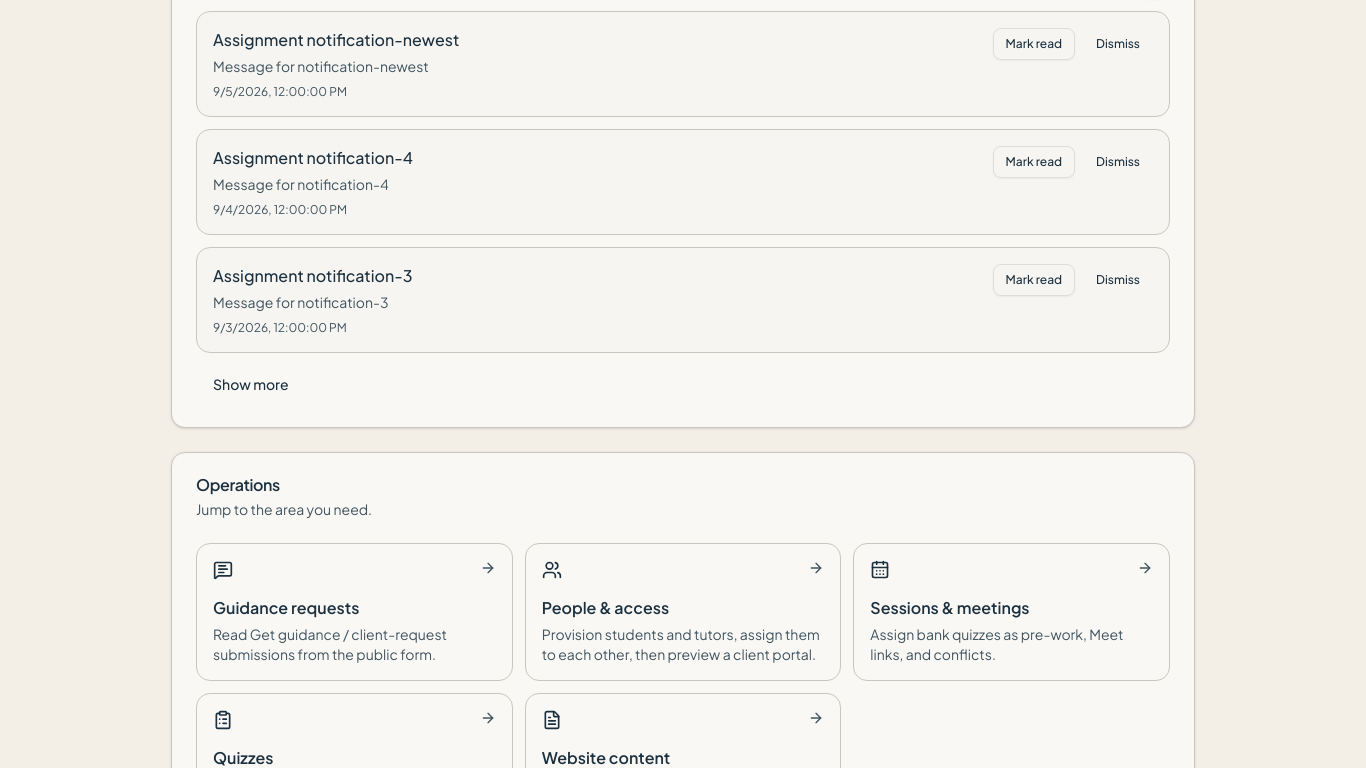
Test: administrator overview › expands older assignment notifications and can collapse them again
(page scrolled)
Click the button with test id "assignment-notifications-show-more": (251, 384) [196, 365, 306, 403]
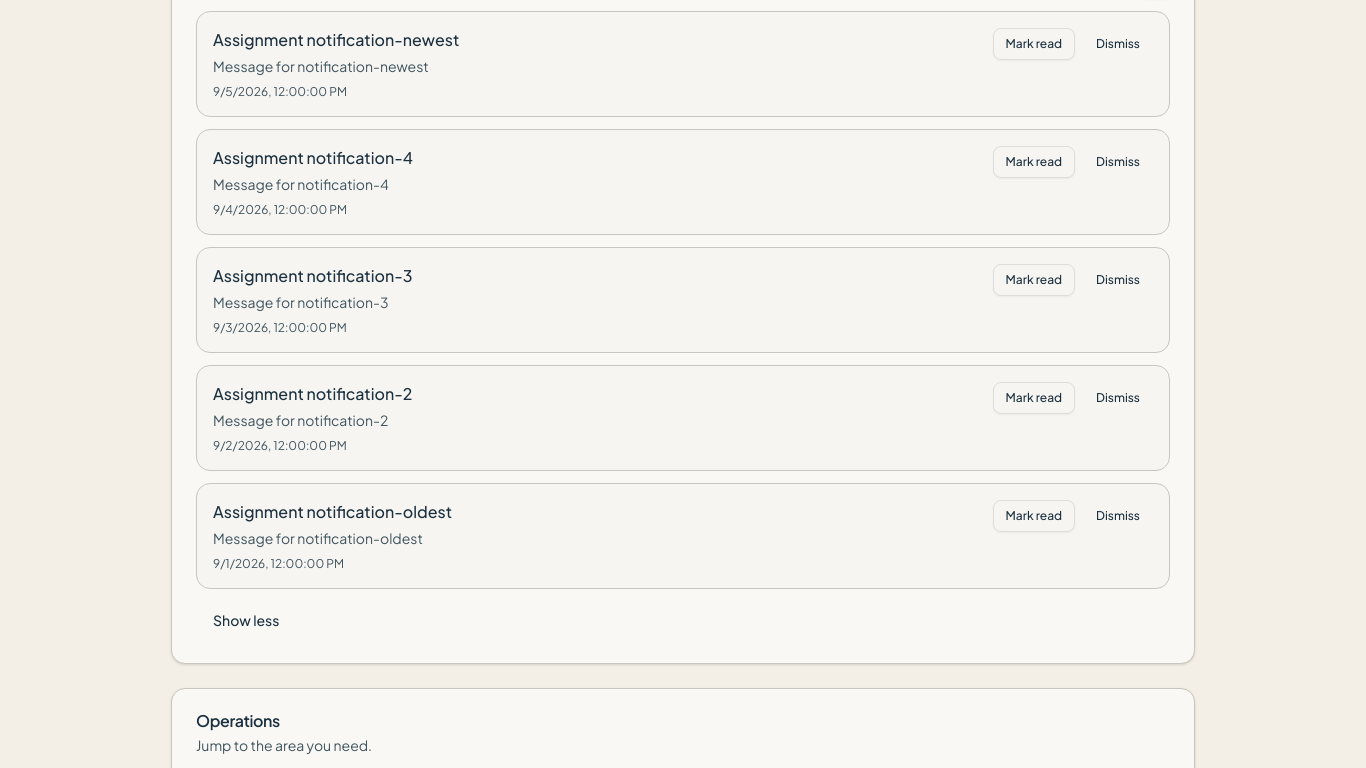
Result: the element with test id "notification-notification-2" is shown at [196, 365, 1170, 471]
Result: the element with test id "notification-notification-oldest" is shown at [196, 483, 1170, 589]
Result: the button with test id "assignment-notifications-show-more" reads "Show less"
Click the button with test id "assignment-notifications-show-more": (246, 620) [196, 601, 296, 639]
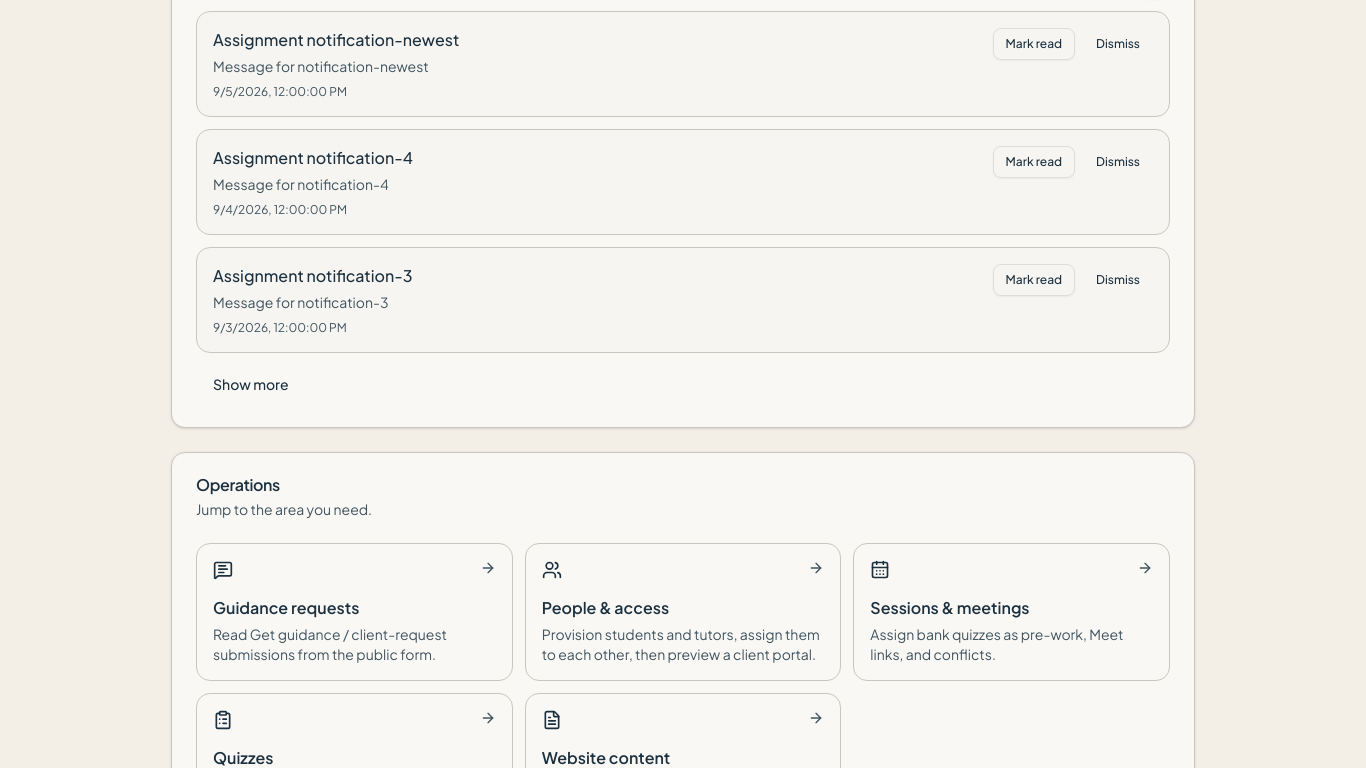
Result: the element with test id "notification-notification-2" is gone
Result: the element with test id "notification-notification-oldest" is gone
Result: the button with test id "assignment-notifications-show-more" reads "Show more" at [196, 365, 306, 403]
